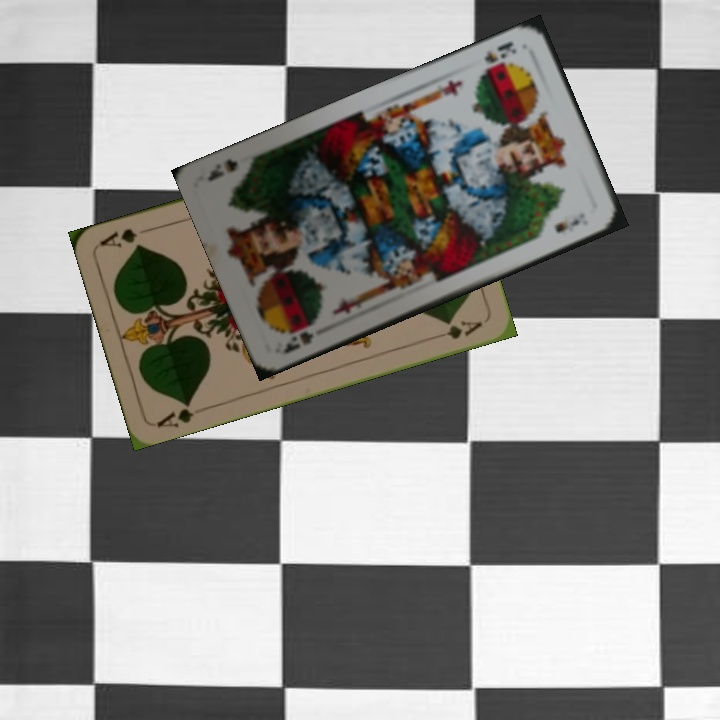GA: (152, 397, 197, 430)
SK: (279, 318, 320, 357), (480, 37, 519, 66)
